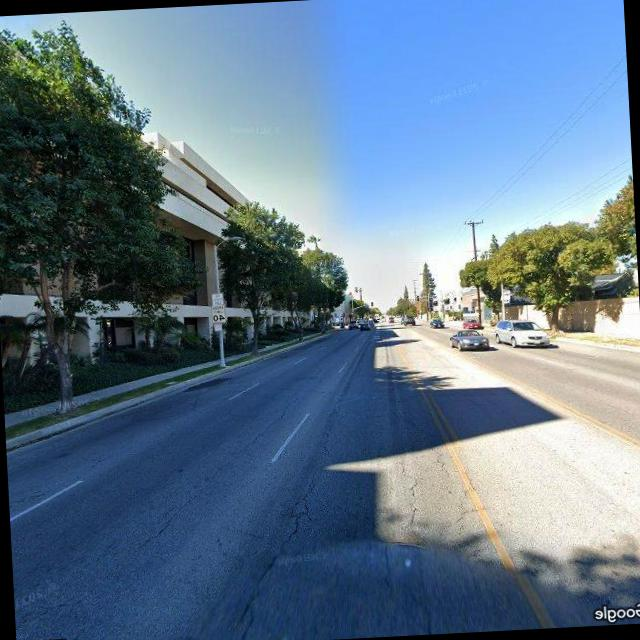pothole: (228, 400, 357, 614)
